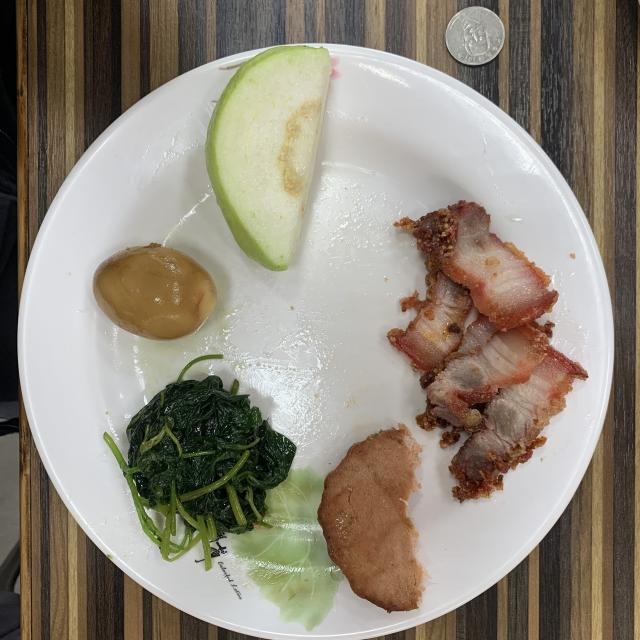Spam: (318, 424, 424, 612)
coin: (445, 6, 505, 65)
guava -sliced-: (206, 46, 331, 271)
red grilled pork: (389, 201, 588, 501)
soy egg: (94, 242, 216, 340)
sweet potato leaves: (104, 375, 296, 570)
